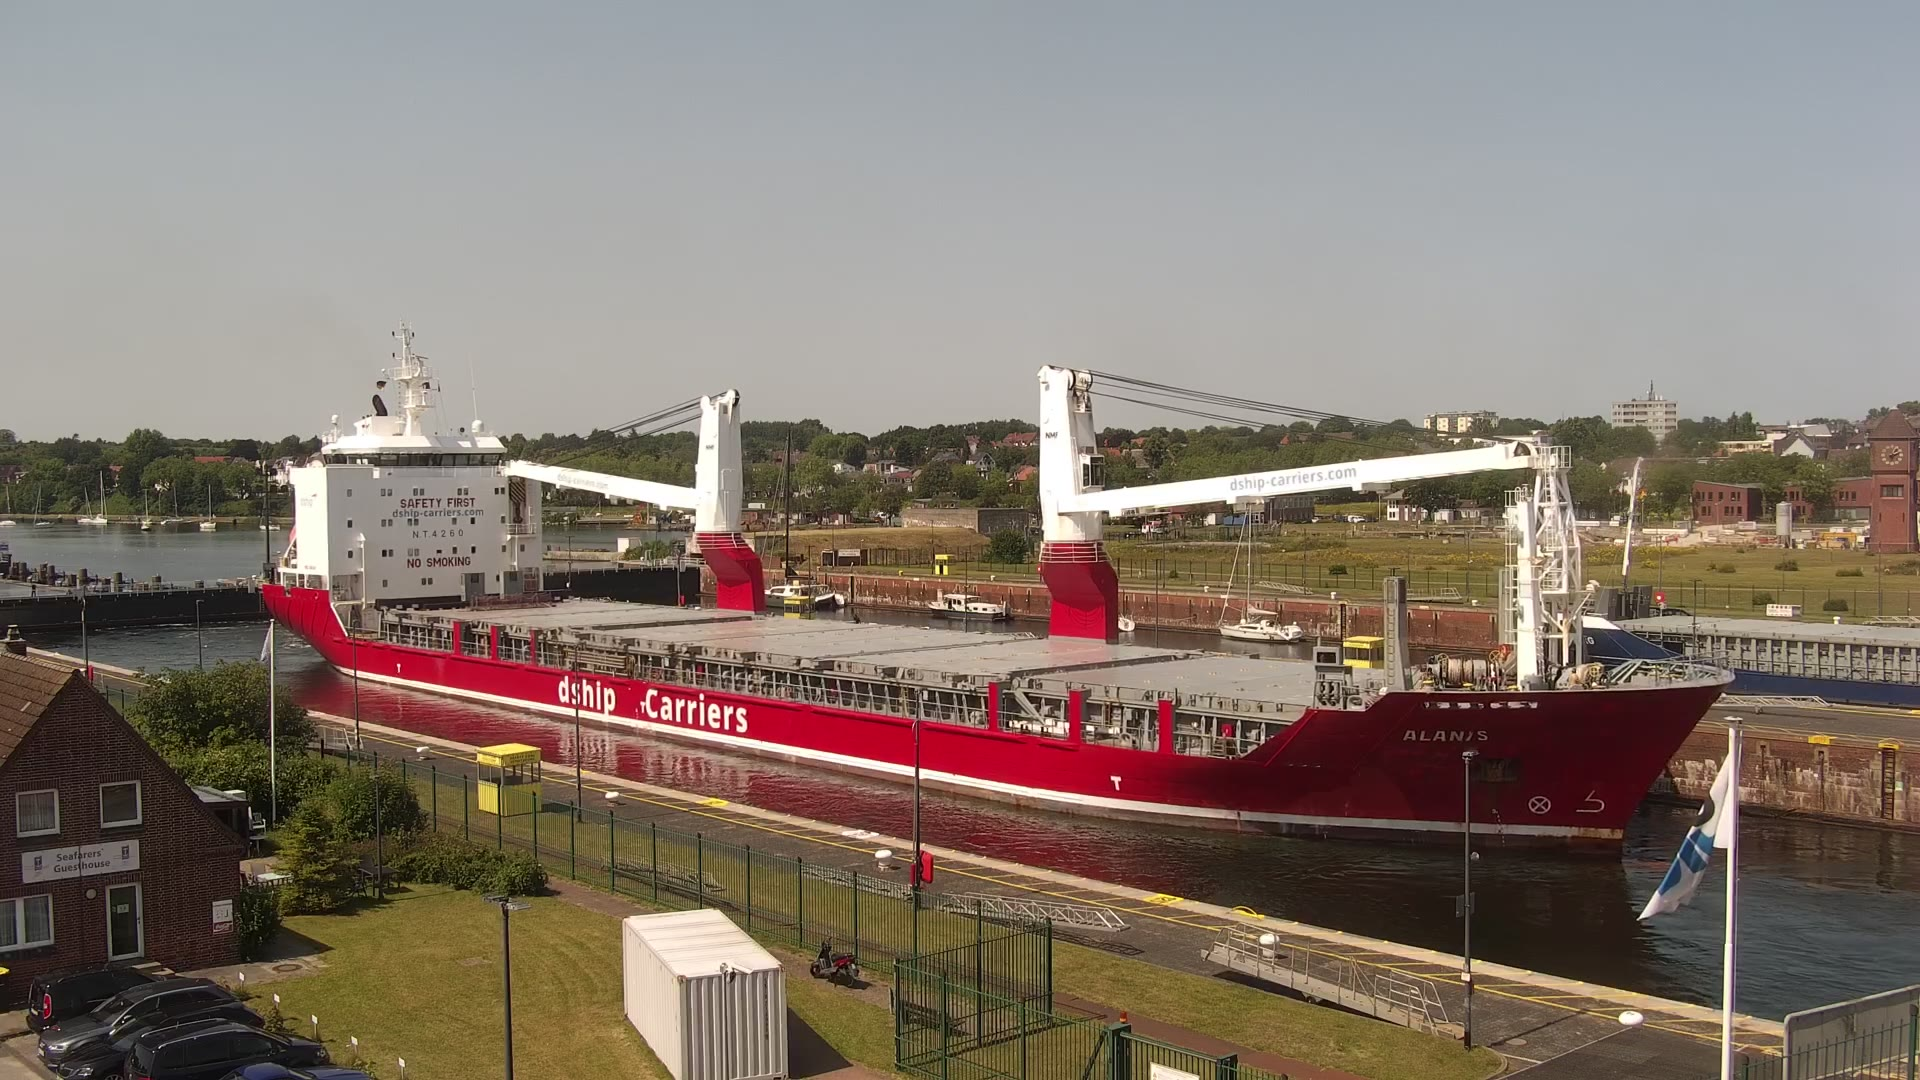human: (1566, 667, 1582, 689), (30, 583, 37, 597)
land: (35, 975, 239, 1068), (54, 996, 268, 1078), (121, 1013, 331, 1078), (24, 958, 191, 1036), (216, 1057, 369, 1078), (808, 932, 860, 988), (1347, 513, 1366, 524)
sea: (258, 315, 1736, 859), (757, 420, 844, 610), (1217, 503, 1306, 640), (924, 588, 1010, 618), (160, 485, 194, 526), (76, 474, 99, 524), (258, 481, 281, 531), (33, 485, 56, 526), (94, 471, 110, 525), (199, 483, 217, 529), (1, 486, 17, 526), (140, 486, 153, 530)
